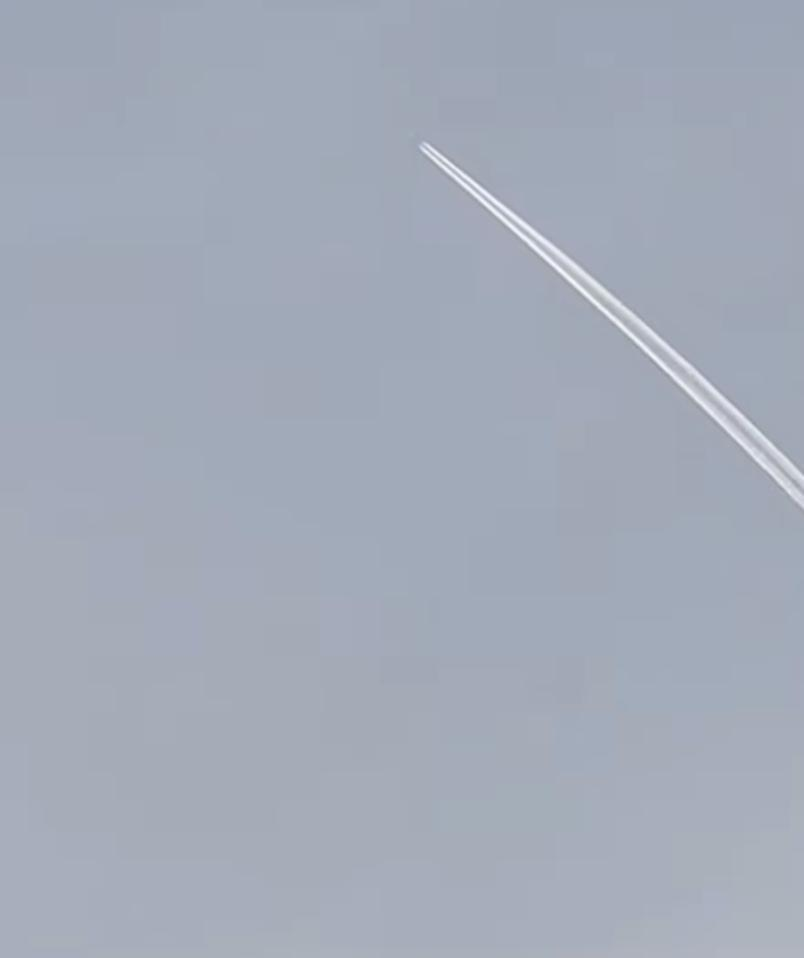Plane: (388, 111, 681, 380)
